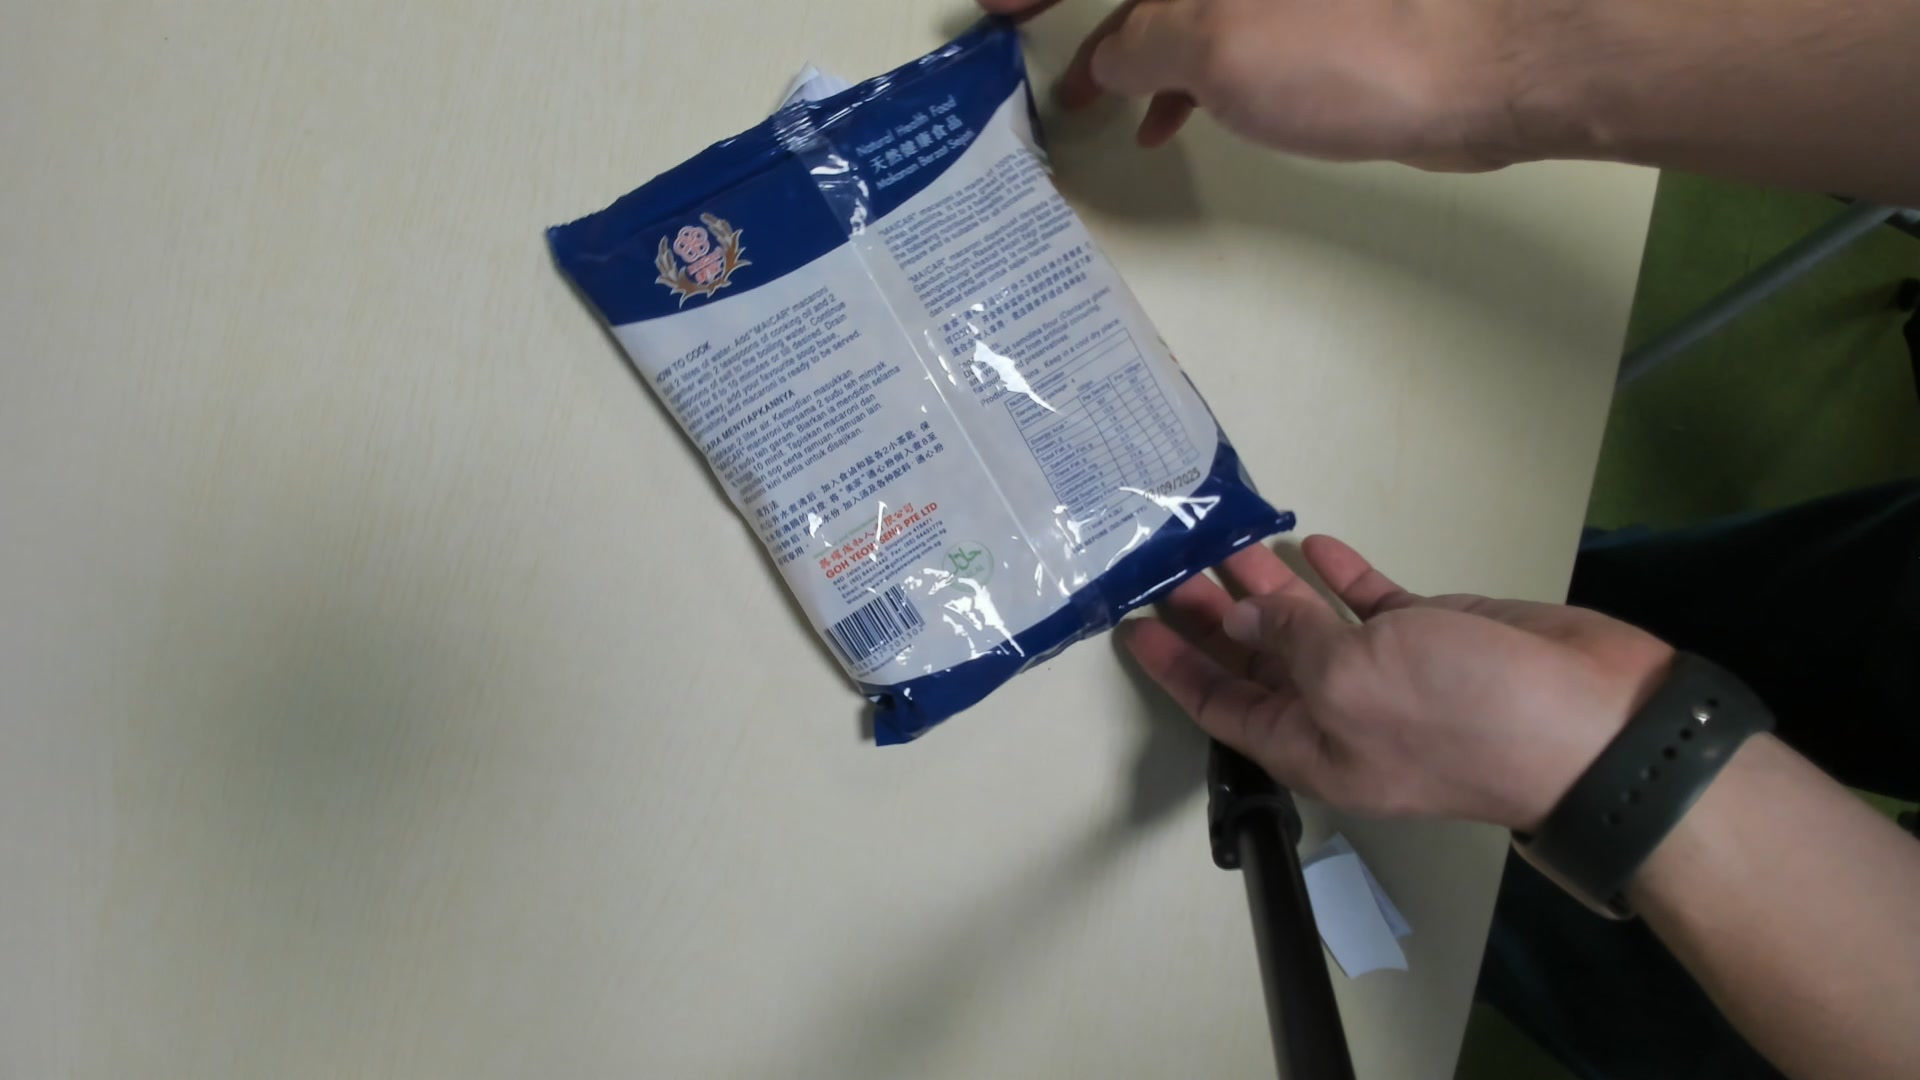Pasta_400-499g_Halal_NonHealthy: (545, 21, 1302, 752)
